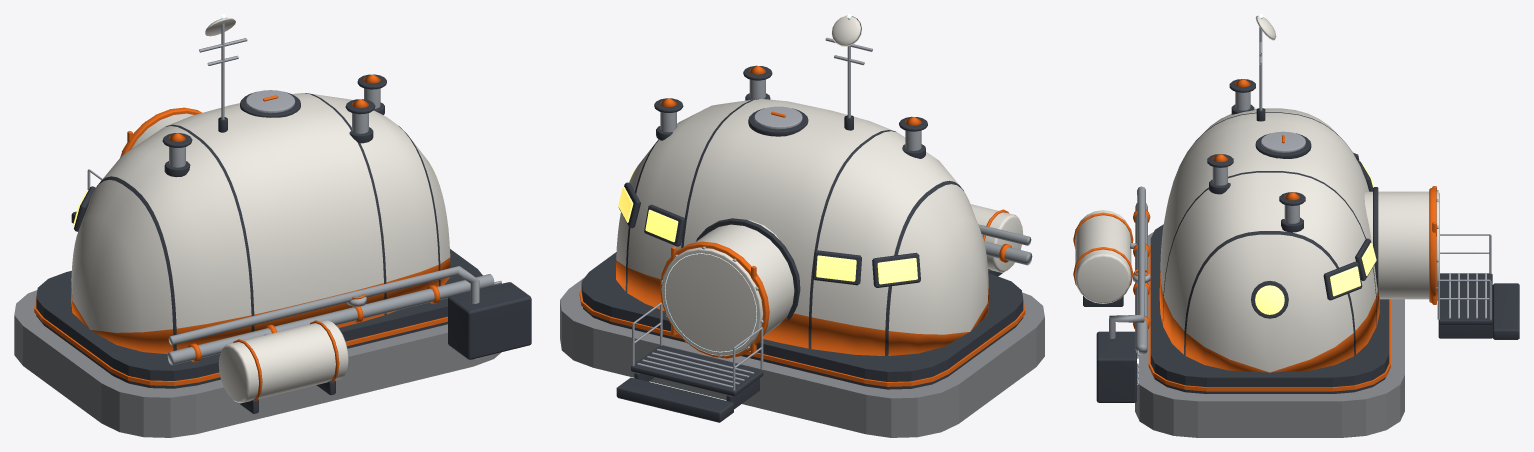
File: outpost_hab.glb
3 views of the same model, side by side, from view 1: azimuth 30°, elevation 25°; view 2: azimuth 150°, elevation 25°; view 3: azimuth 270°, elevation 25° (orthographic). The views are drawn at different scales.
Visible parts, largest first — view 1: Body; view 2: Body; view 3: Body.
Part boxes in pixels (bbox=[...]): Body: bbox=[14, 14, 531, 437]; Body: bbox=[560, 14, 1044, 437]; Body: bbox=[1073, 14, 1519, 437].
Bounding box in the file's own units: 9.3 × 7.75 × 9.92.
